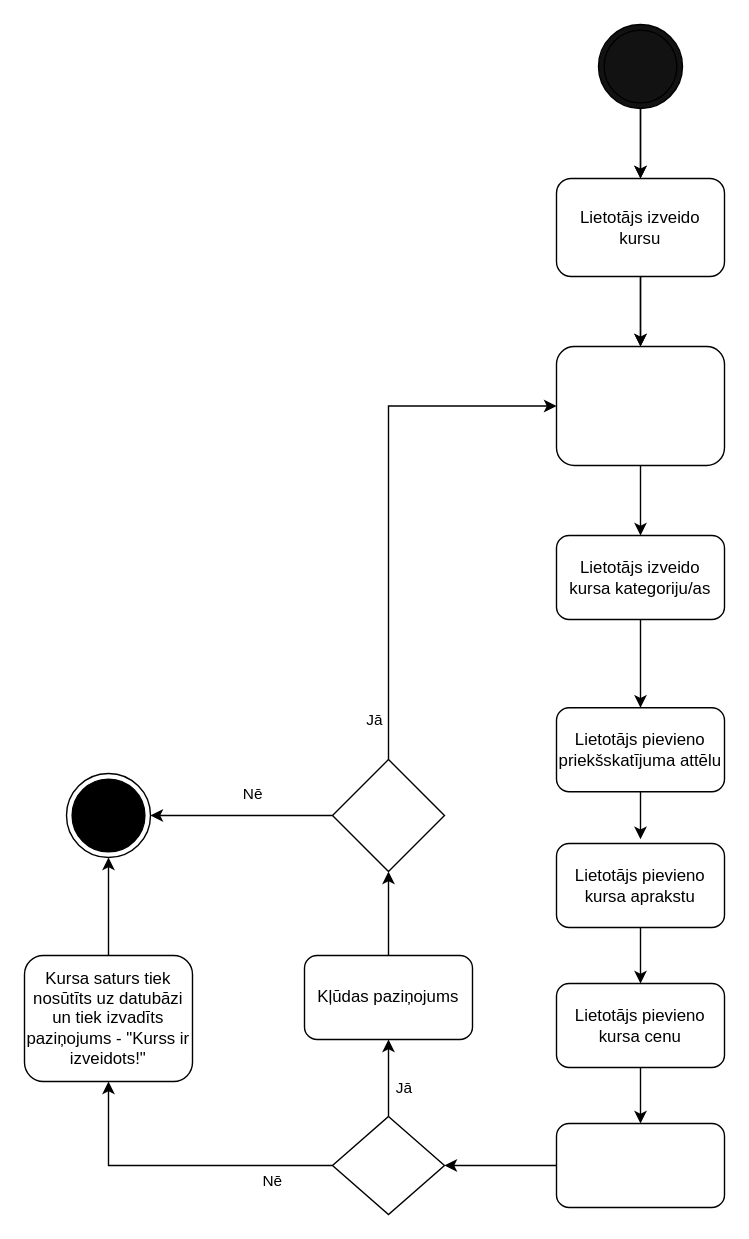
This 749x1239 diagram has some shape labels left out. Each missing label, with the centre of its shape:
Ir radušās kļūdas: pixel 387 1164
Lietotājs ieraksta kursa nosaukumu: pixel 639 405
Lietotājs nospiež pogu "Izveidot kursu": pixel 639 1165
Mēģināt vēlreiz: pixel 387 815
